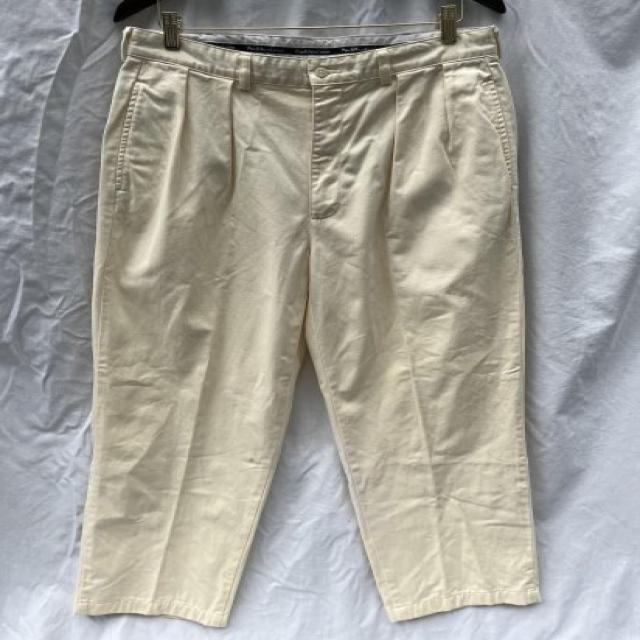long-pants: (74, 26, 547, 626)
